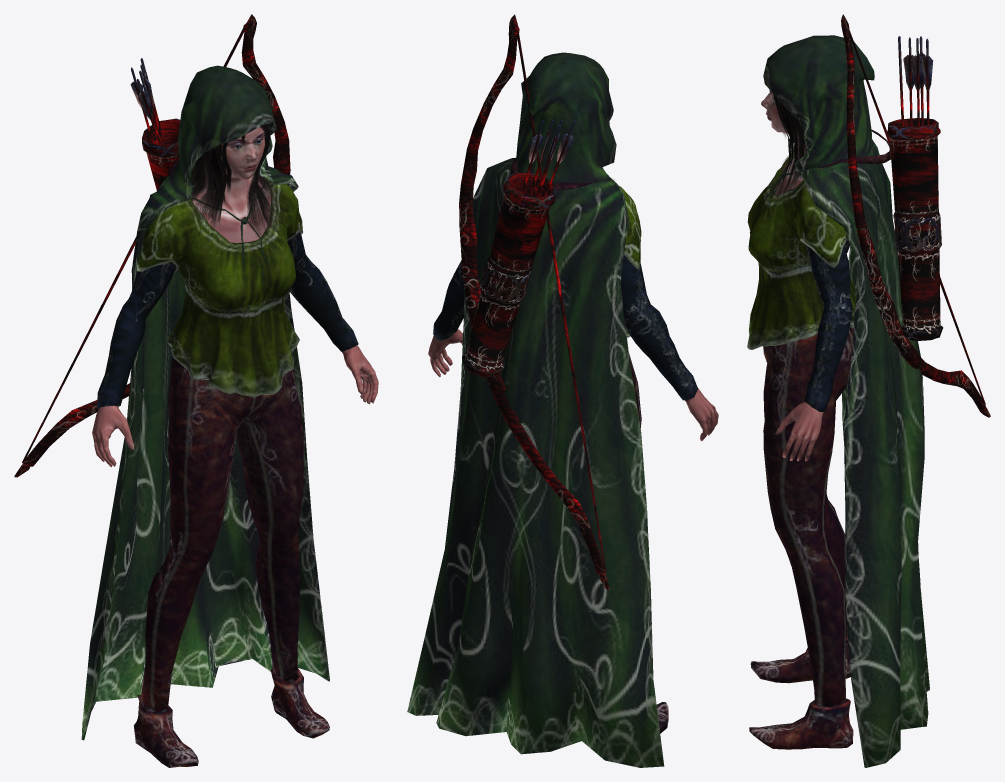
The model's file is actor-archer-mobile.glb.
3 views of the same model, side by side, from view 1: azimuth 30°, elevation 25°; view 2: azimuth 150°, elevation 25°; view 3: azimuth 270°, elevation 25° (orthographic).
Visible parts, largest first — view 1: LOW_body · posed; view 2: LOW_body · posed; view 3: LOW_body · posed.
Boxes of the visible parts, x1,y1,x2,y2 form: LOW_body · posed: [14, 14, 378, 767]; LOW_body · posed: [407, 14, 718, 767]; LOW_body · posed: [747, 14, 990, 767].
Size of the model in its own units: 0.8222 by 2 by 0.6157.
6 materials, 6 textured.
